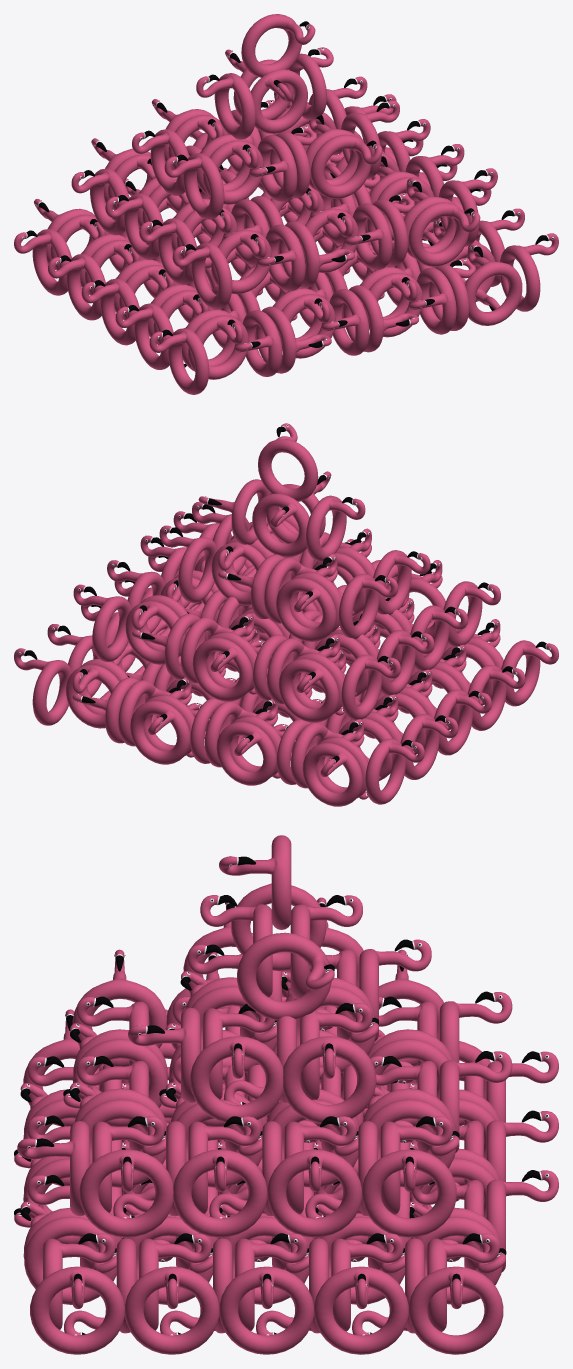
The model's file is goose_torus_pyramide.glb.
3 renders of one model, top to bottom at view 1: azimuth 30°, elevation 25°; view 2: azimuth 150°, elevation 25°; view 3: azimuth 270°, elevation 25°, orthographic. The views are drawn at different scales.
Visible parts, largest first — view 1: Torus001 (×76), Torus161, Torus225; view 2: Torus001 (×71), Torus161, Torus225; view 3: Torus001 (×85), Torus225, Torus161.
Boxes of the visible parts, bbox=[...] form: Torus001 (×76): bbox=[14, 14, 558, 394]; Torus161: bbox=[164, 153, 224, 219]; Torus225: bbox=[341, 100, 399, 178]; Torus001 (×71): bbox=[14, 423, 558, 806]; Torus161: bbox=[373, 550, 430, 614]; Torus225: bbox=[192, 502, 250, 573]; Torus001 (×85): bbox=[14, 835, 558, 1354]; Torus225: bbox=[190, 1036, 283, 1124]; Torus161: bbox=[183, 898, 252, 1008].
Bounding box in the file's own units: 10.66 × 7.05 × 8.76.
